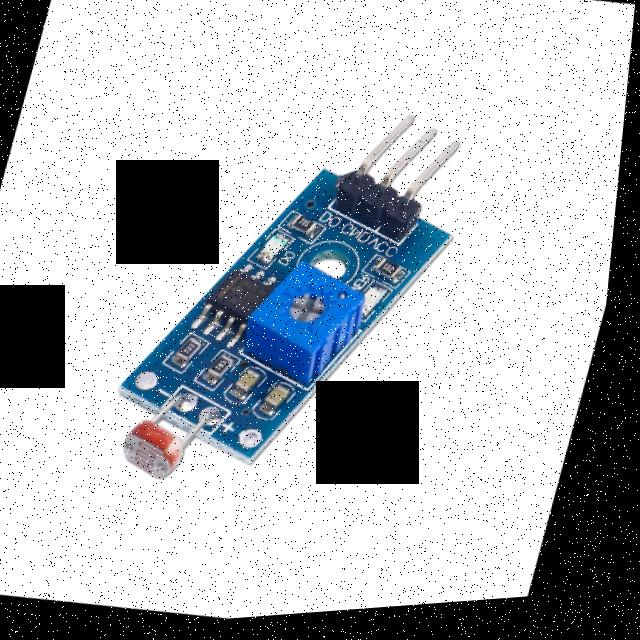IC: (202, 261, 280, 339)
LED: (262, 234, 292, 271), (363, 289, 390, 322)
capacitor 1V5: (266, 381, 299, 415), (239, 367, 269, 402)
connector -5v-: (340, 108, 476, 245)
potentiometer POT1: (244, 257, 381, 382)
resistor IR1: (182, 335, 211, 371), (214, 353, 243, 385), (376, 263, 409, 288), (292, 216, 323, 236)
